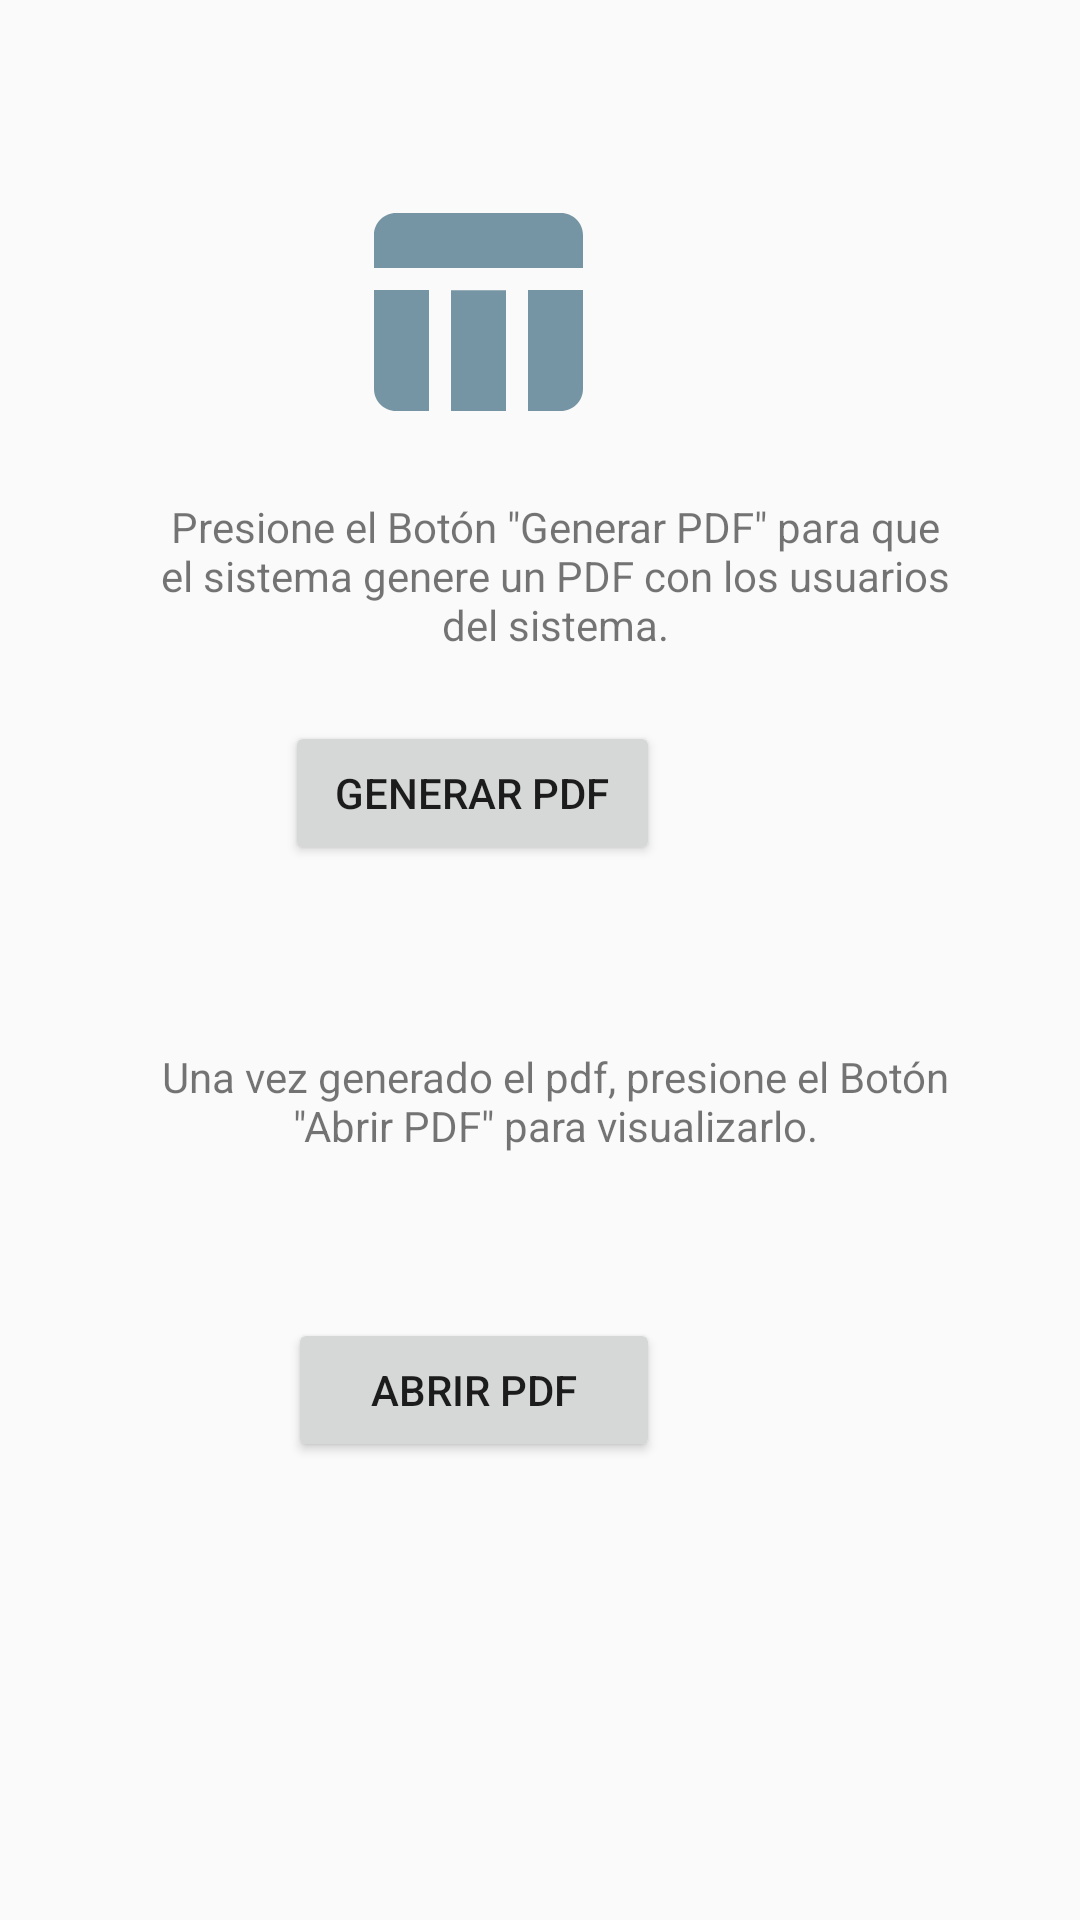

Point at icon controls on the screen. Image size 1080×1920, points as [x,y].
table chart: [478,312]
